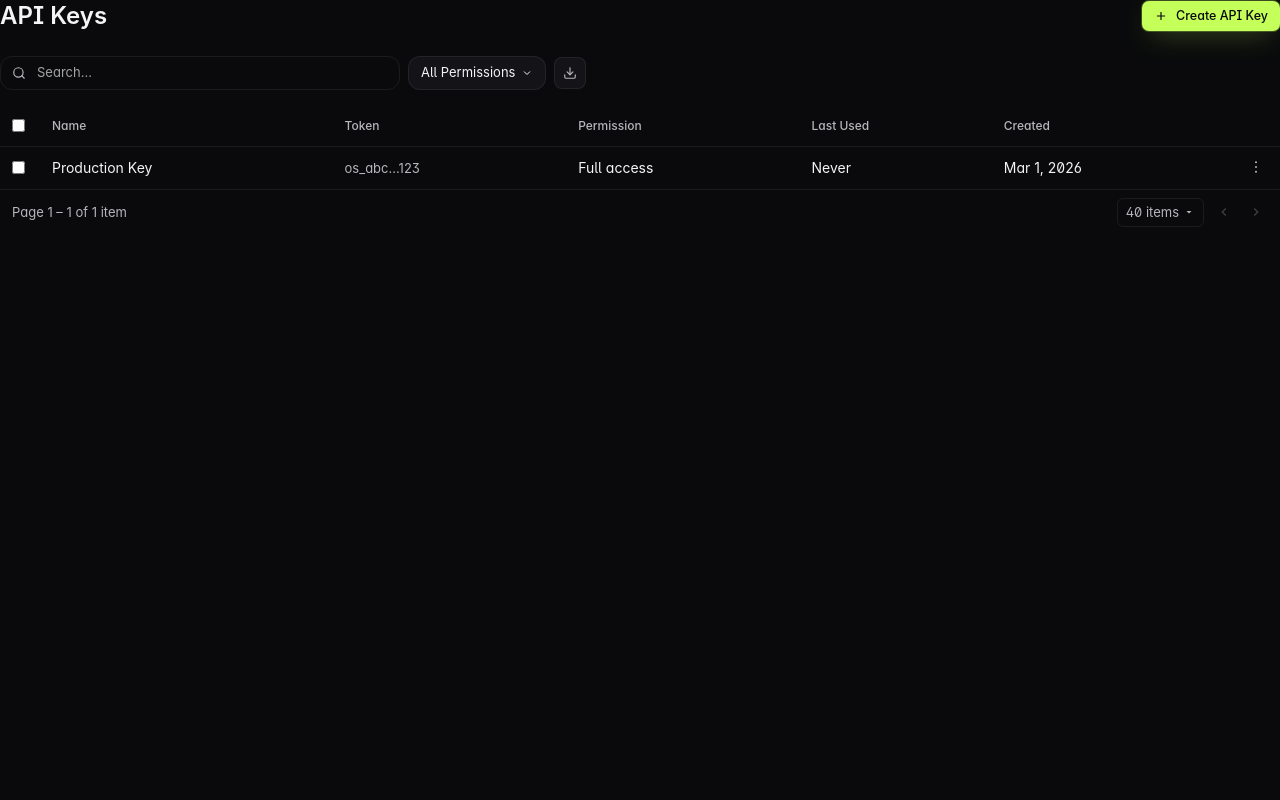
it: Create API Key Modal — feature-031 › domain field is disabled when Full access permission is selected
The image size is (1280, 800).
Click the button "Create API Key".
click(1211, 16)  # box [1142,1,1279,31]
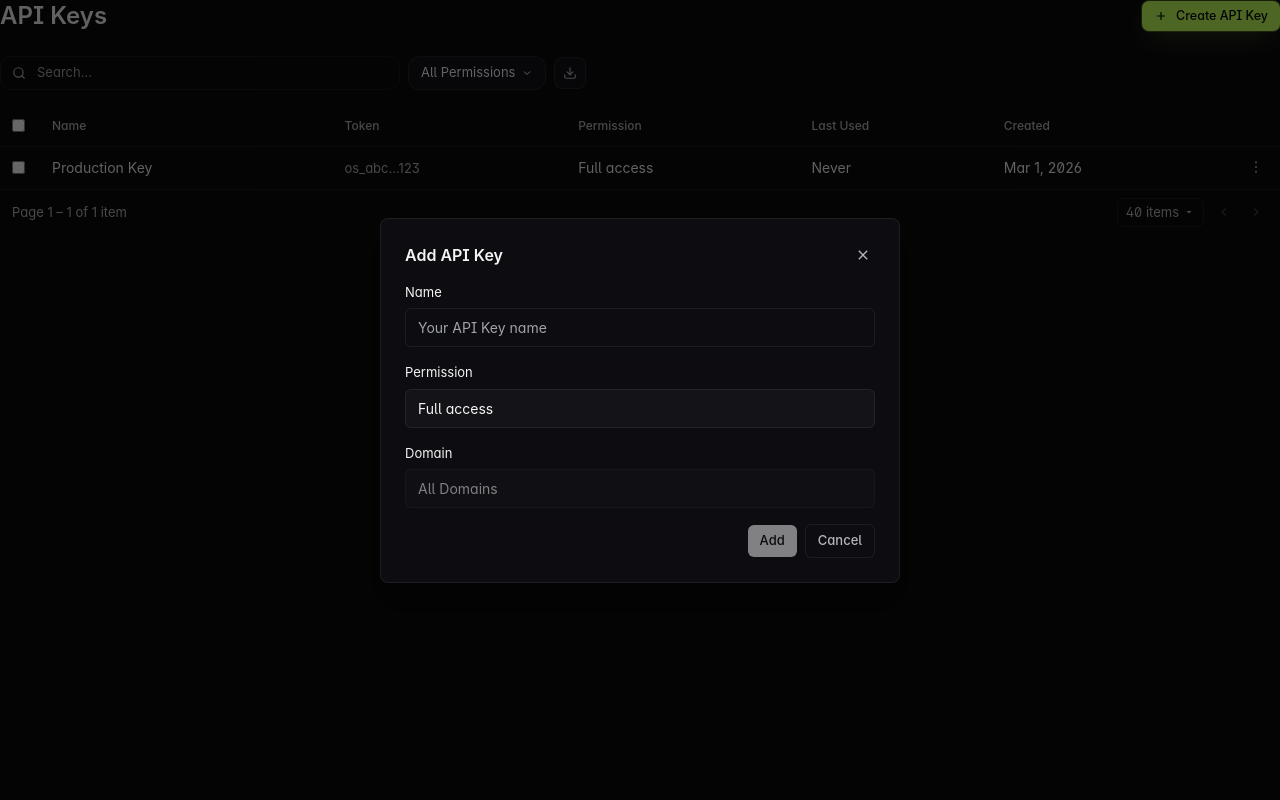
Check: the dropdown labelled "Domain" is disabled, box [405,469,875,508]
